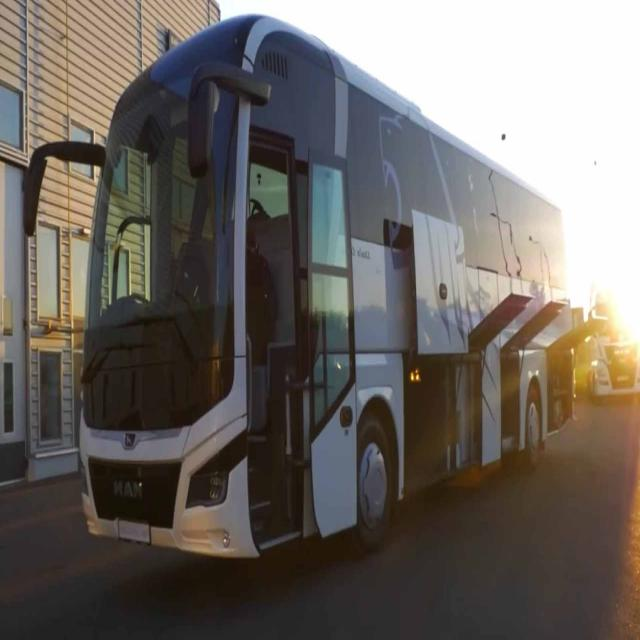bus: (77, 11, 578, 566)
